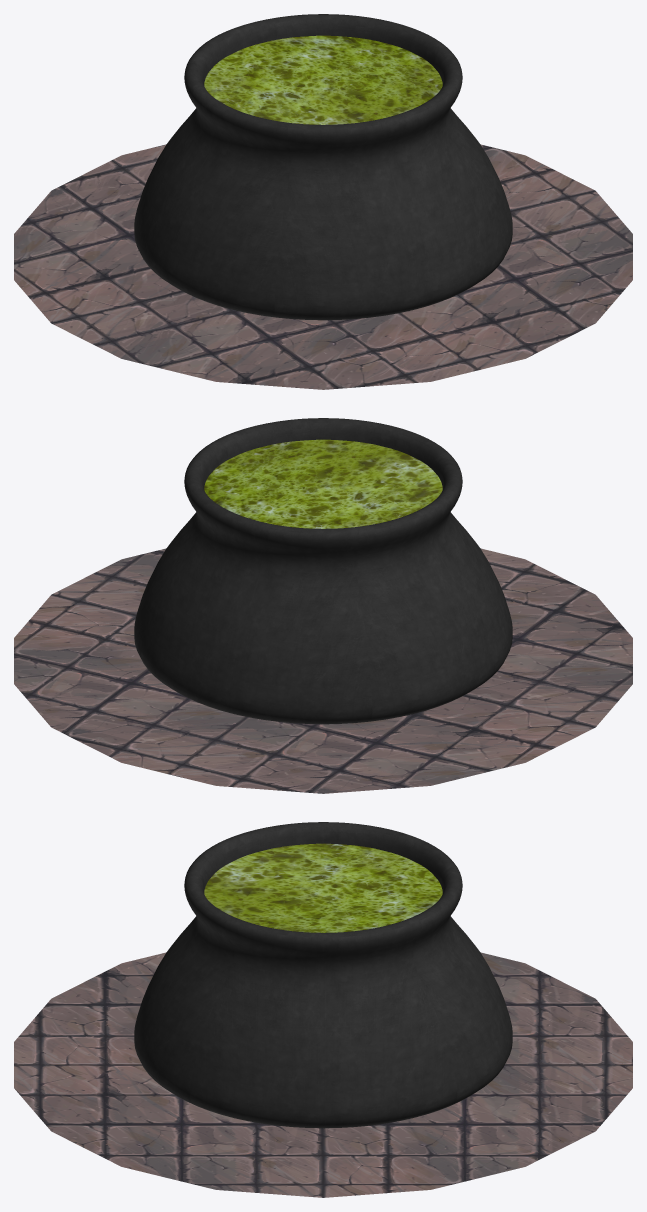
The model's file is Caldeirao.fbx.
3 views of the same model, one above another, from view 1: azimuth 30°, elevation 25°; view 2: azimuth 150°, elevation 25°; view 3: azimuth 270°, elevation 25° (orthographic).
Visible parts, largest first — view 1: Cylinder002, Cylinder001, Object001; view 2: Cylinder002, Cylinder001, Object001; view 3: Cylinder002, Cylinder001, Object001.
Boxes of the visible parts, bbox=[...] form: Cylinder002: bbox=[134, 14, 512, 320]; Cylinder001: bbox=[14, 144, 632, 389]; Object001: bbox=[204, 35, 442, 124]; Cylinder002: bbox=[134, 418, 512, 724]; Cylinder001: bbox=[14, 548, 632, 793]; Object001: bbox=[204, 439, 442, 528]; Cylinder002: bbox=[134, 822, 512, 1128]; Cylinder001: bbox=[14, 952, 632, 1197]; Object001: bbox=[204, 843, 442, 932].
Bounding box in the file's own units: 252 × 82.64 × 248.
